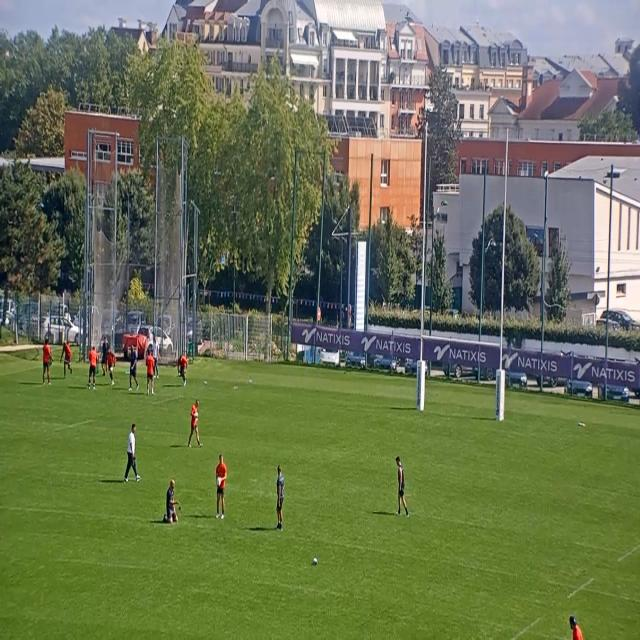rugby ball: (215, 473, 225, 493), (312, 554, 319, 566)
rugby play: (390, 444, 411, 518), (124, 417, 143, 482), (162, 470, 180, 525), (218, 452, 232, 512), (59, 332, 77, 378), (171, 346, 193, 380), (188, 387, 200, 448), (37, 331, 52, 379), (142, 344, 156, 393), (128, 341, 140, 396), (88, 336, 100, 389), (276, 460, 285, 528), (569, 606, 586, 640), (105, 343, 118, 387)
